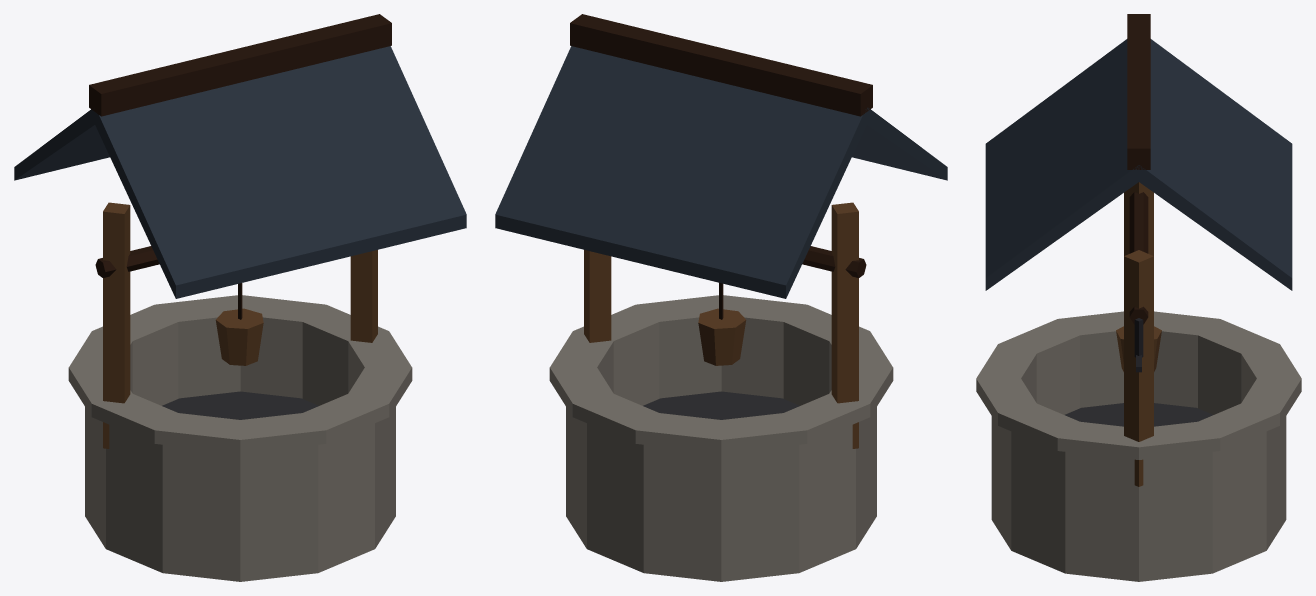
The model's file is pozo.fbx.
3 renders of one model, left to right at view 1: azimuth 30°, elevation 25°; view 2: azimuth 150°, elevation 25°; view 3: azimuth 270°, elevation 25°, orthographic. The views are drawn at different scales.
Visible parts, largest first — view 1: pozo; view 2: pozo; view 3: pozo.
Part boxes in pixels (x1=…): pozo: x1=14, y1=14, x2=466, y2=581; pozo: x1=495, y1=14, x2=947, y2=581; pozo: x1=976, y1=14, x2=1301, y2=581.
Size of the model in its own units: 2.98 by 4.1 by 2.76.
